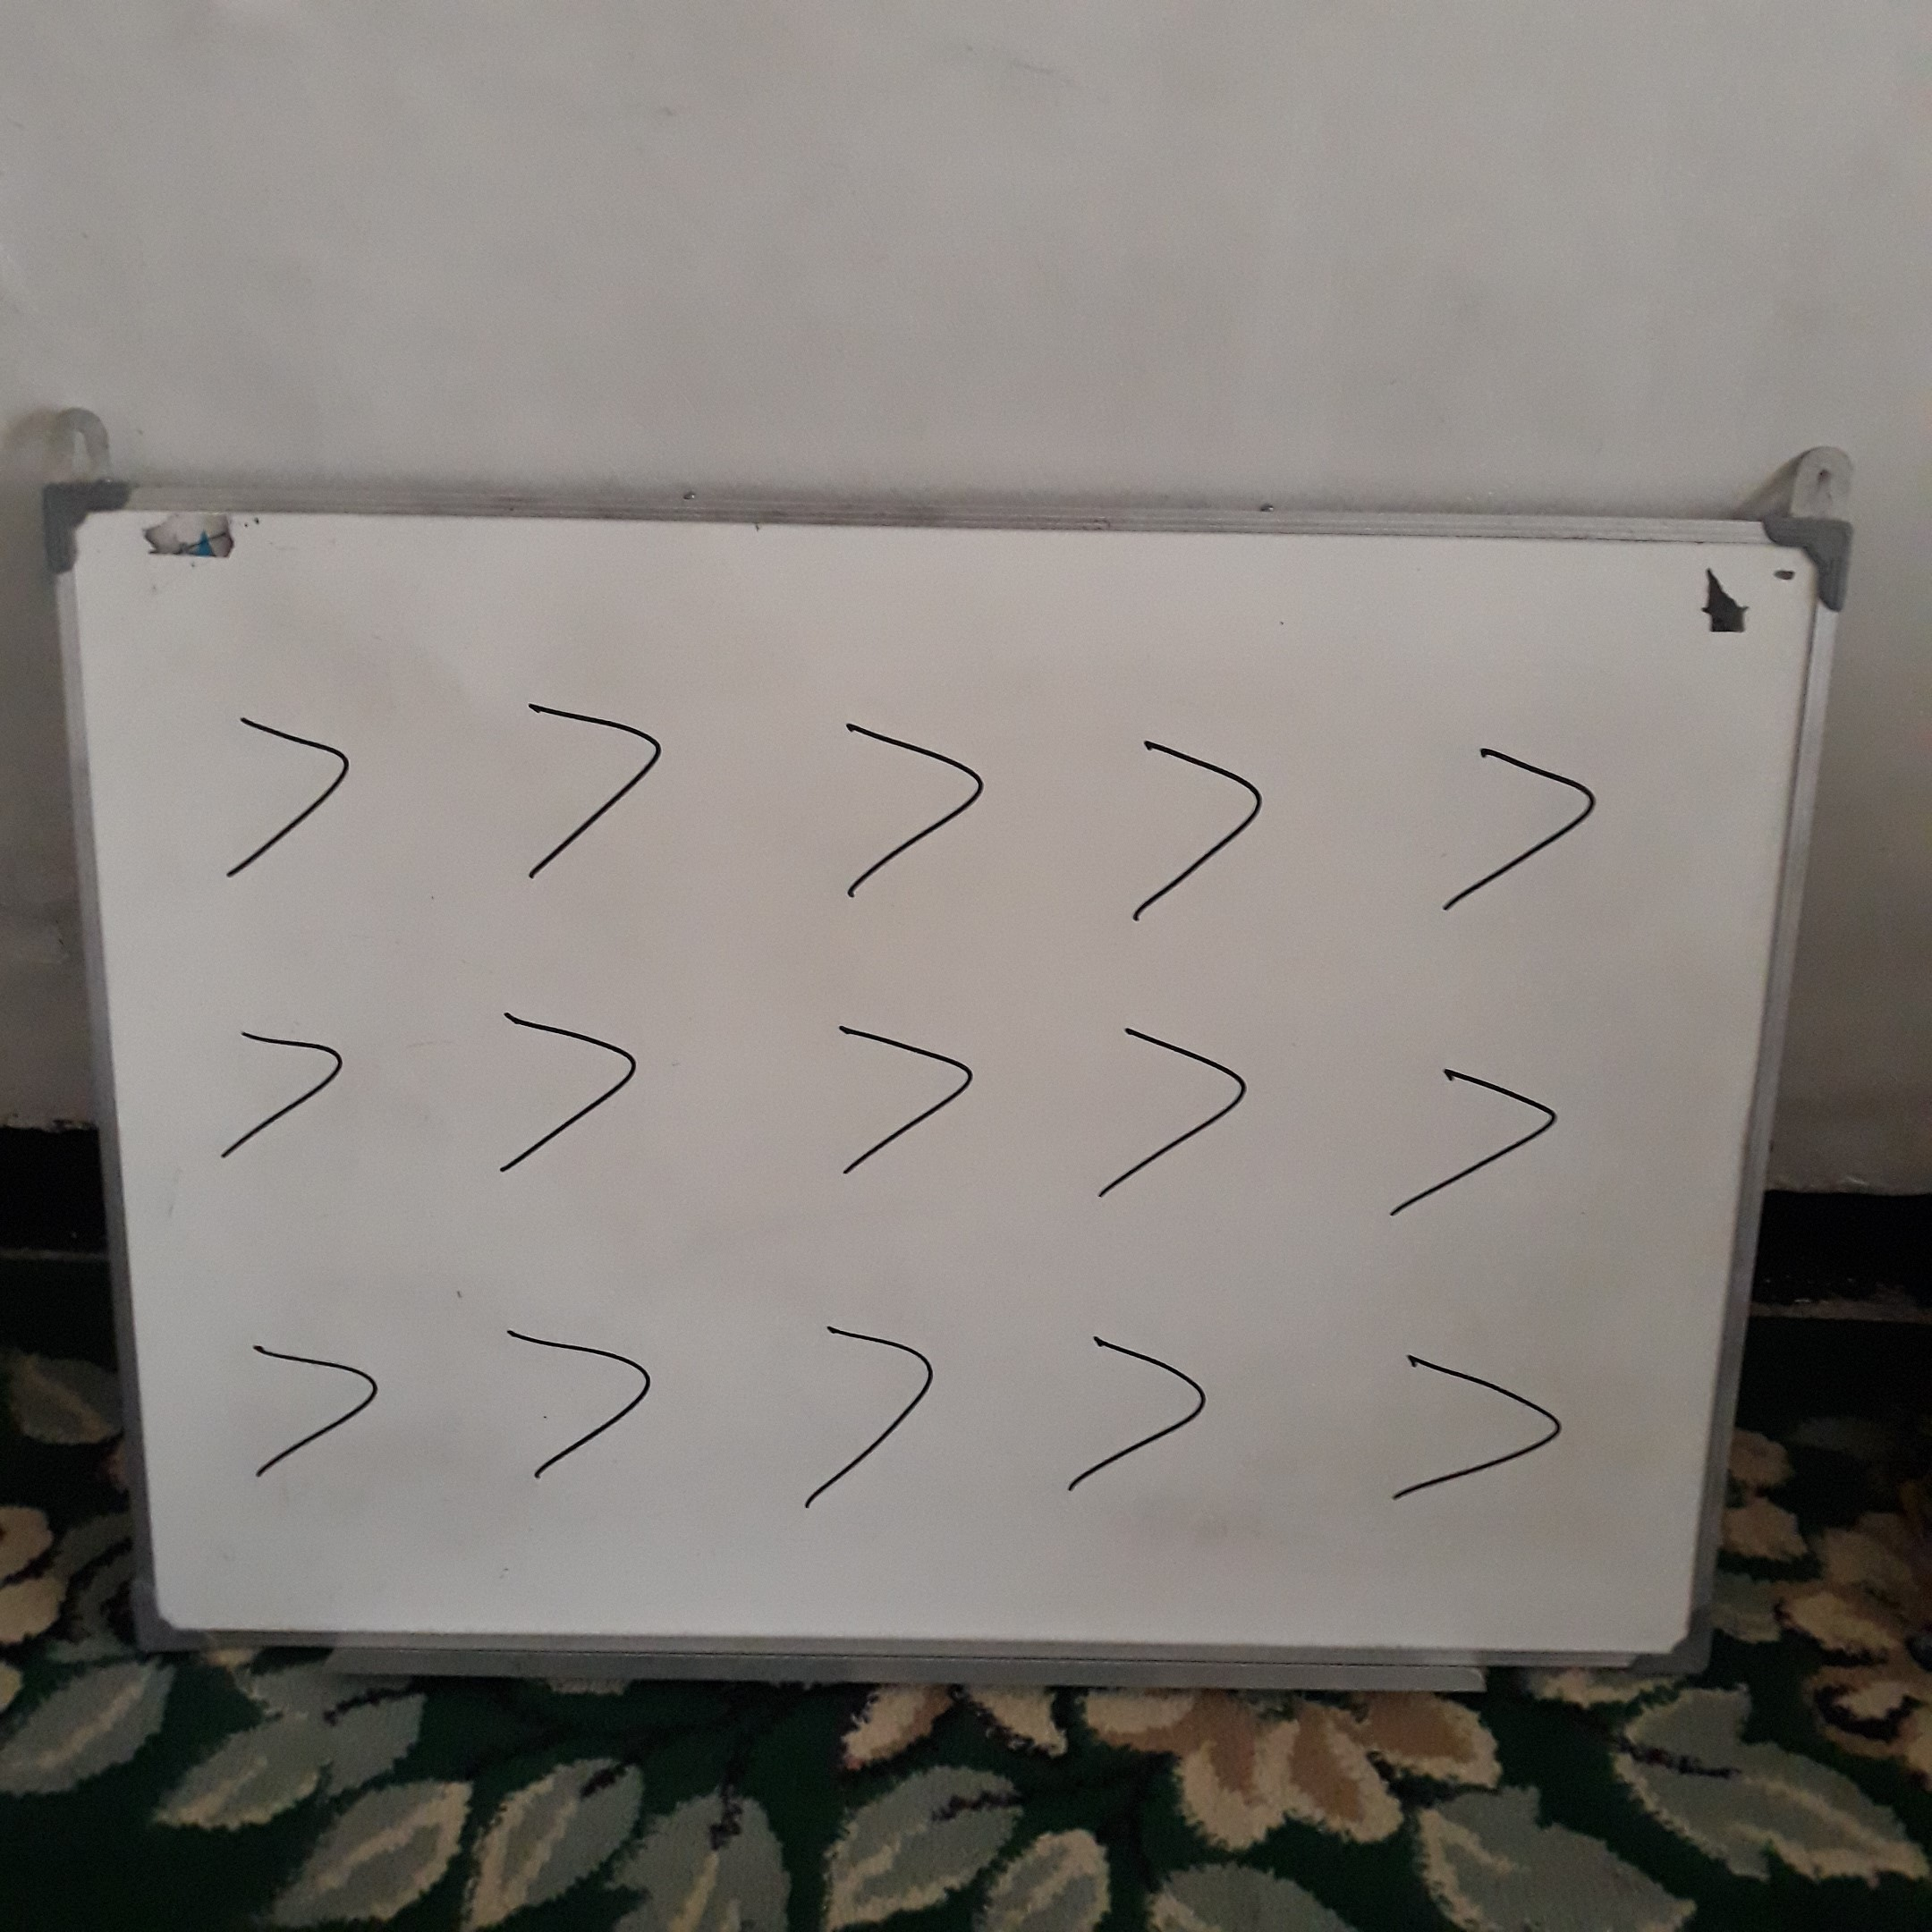morethan: (1369, 1306, 1581, 1538), (468, 975, 656, 1194), (812, 696, 1000, 915), (1096, 722, 1284, 941), (1424, 715, 1612, 934), (798, 980, 986, 1199), (1072, 990, 1259, 1209), (1379, 1033, 1567, 1252), (768, 1304, 956, 1523), (1040, 1306, 1228, 1525), (194, 987, 382, 1206), (208, 1294, 395, 1513), (478, 1291, 665, 1510), (201, 699, 371, 897), (504, 689, 674, 886)
